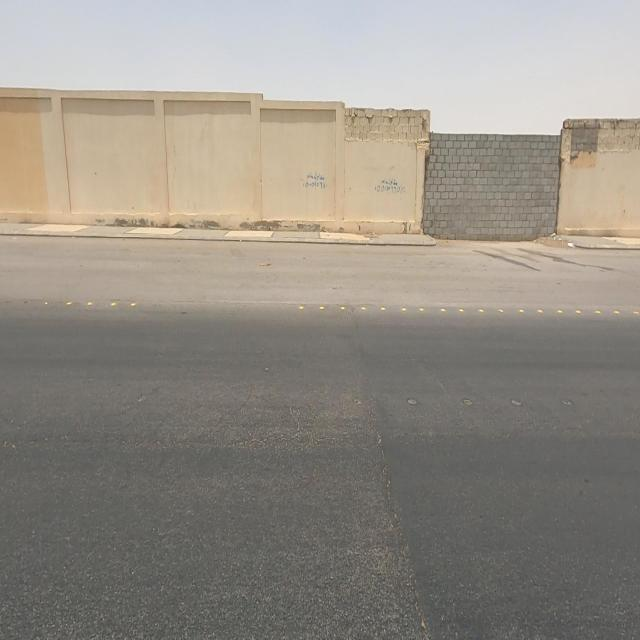Graffiti: (375, 178, 408, 197), (303, 173, 329, 190)
